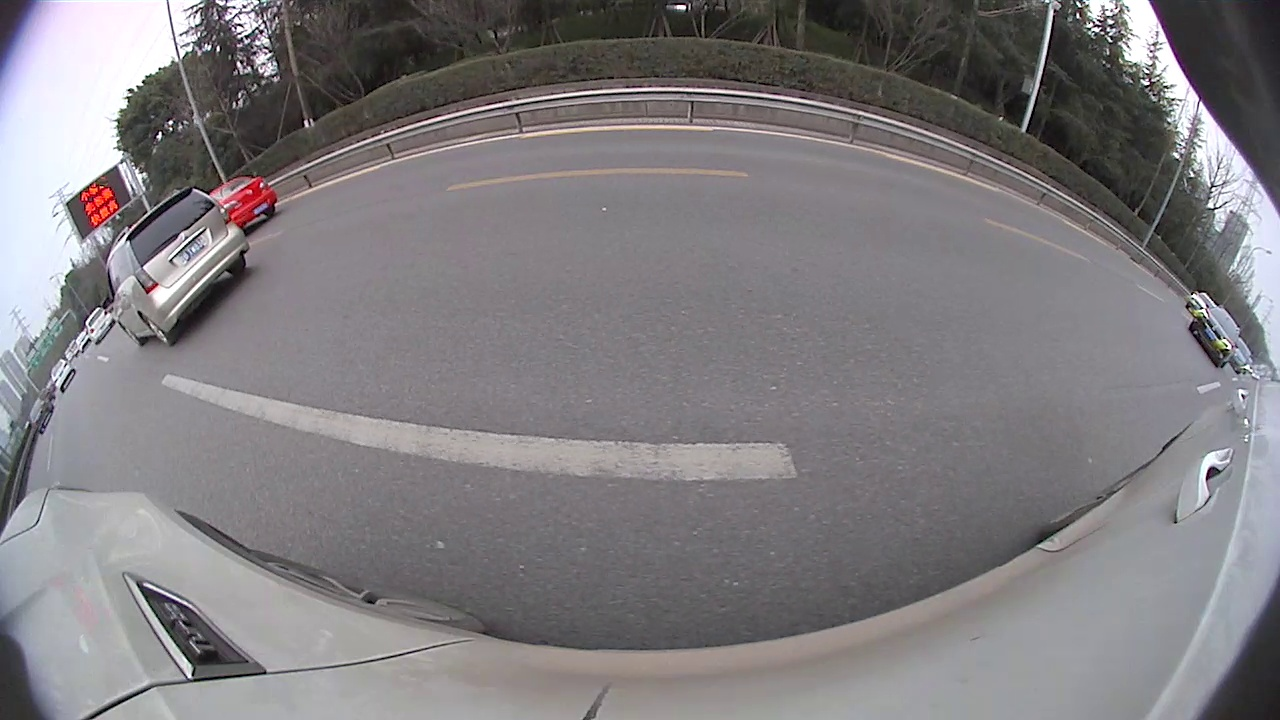bus: (969, 99, 1279, 414), (796, 127, 996, 234)
car: (1, 144, 375, 497), (594, 134, 700, 218), (450, 152, 554, 219), (710, 148, 785, 200)
front: (309, 223, 376, 308), (1055, 233, 1120, 318), (818, 176, 835, 202)
rear: (905, 186, 932, 223), (517, 188, 531, 210), (725, 175, 739, 194)
